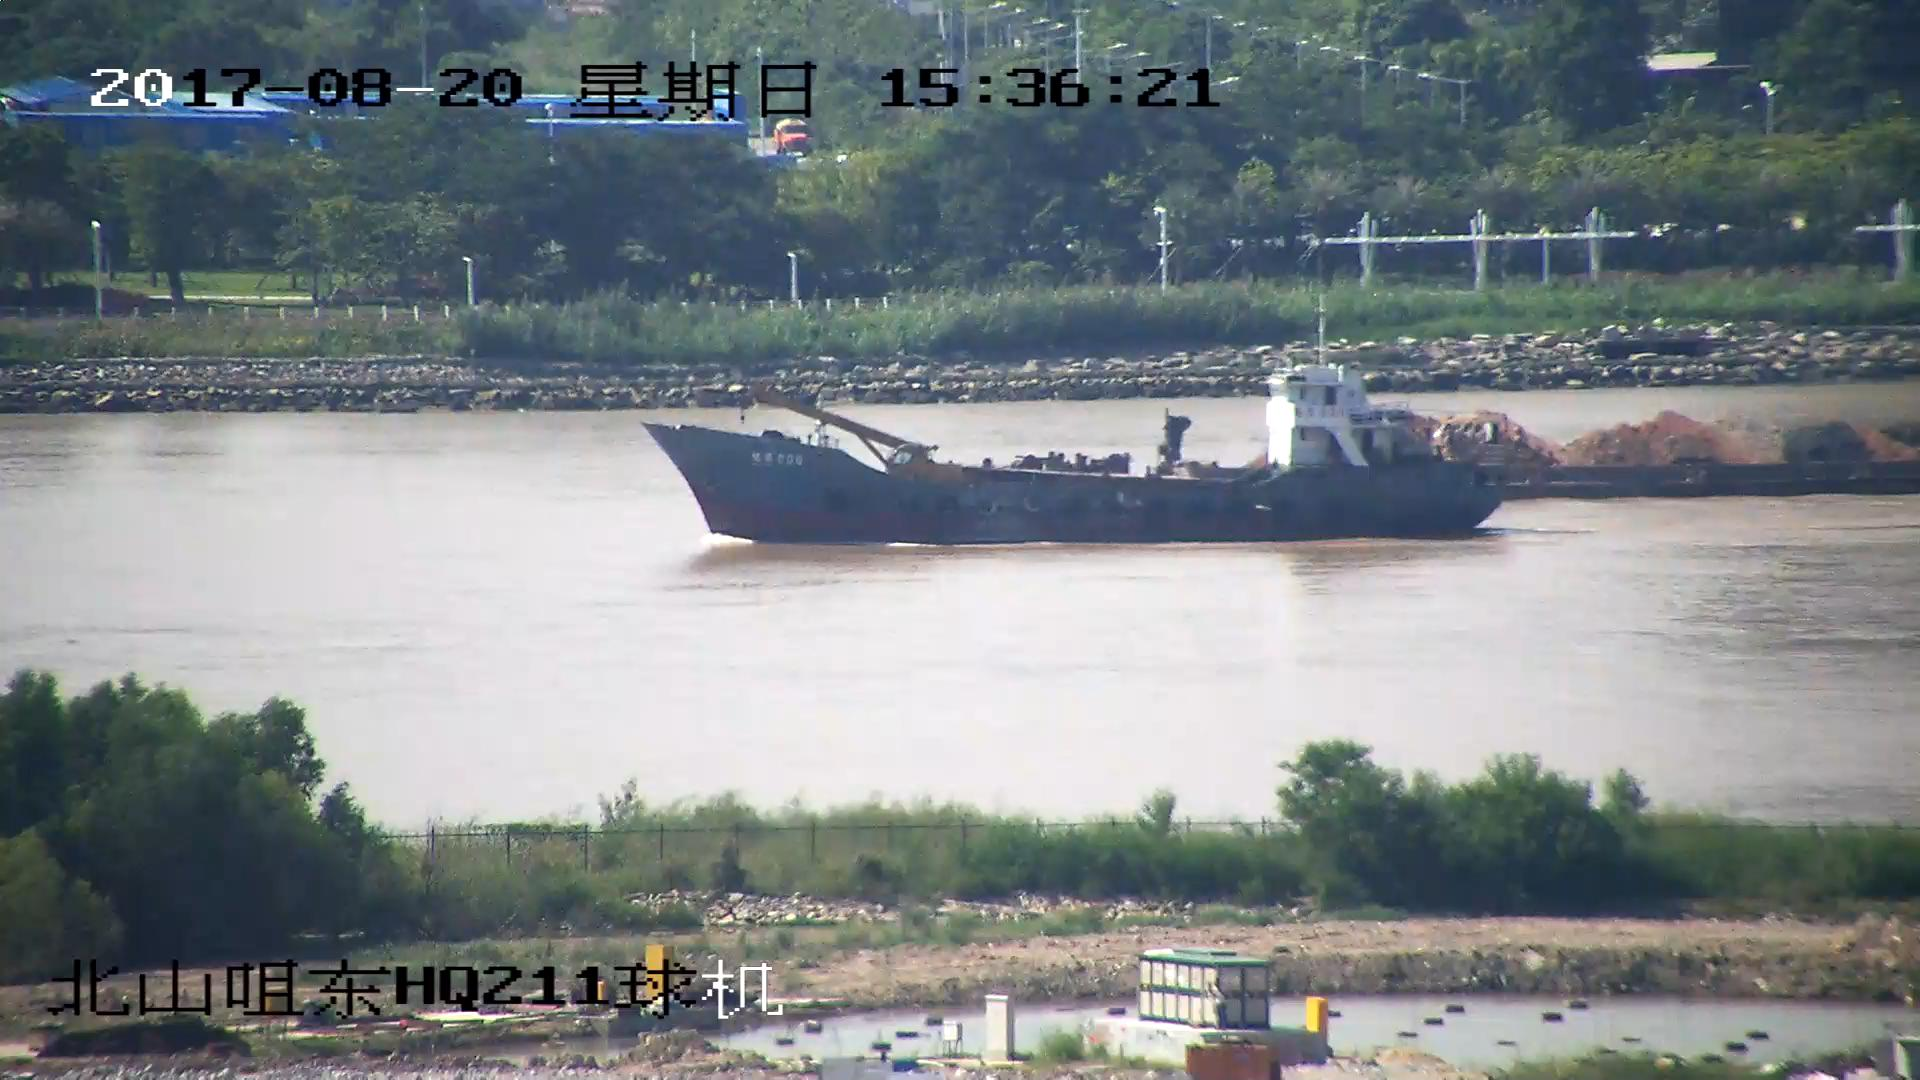general cargo ship: (642, 286, 1502, 546)
ore carrier: (968, 403, 1920, 505)
